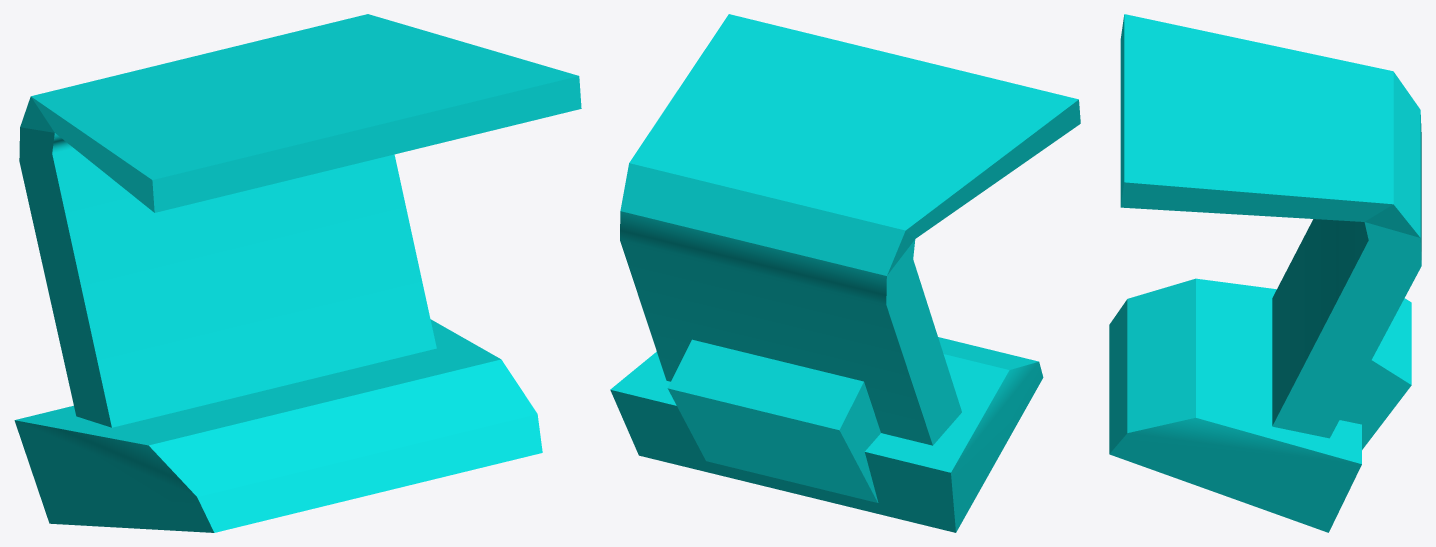
The model's file is SM_Veh_Cart_01_Collision.fbx.
The picture shows the model from 3 angles, left to right: view 1: azimuth 30°, elevation 25°; view 2: azimuth 150°, elevation 25°; view 3: azimuth 270°, elevation 25°; orthographic projection. The views are drawn at different scales.
Parts seen in each view (by area): view 1: SM_Veh_Cart_01_Collision; view 2: SM_Veh_Cart_01_Collision; view 3: SM_Veh_Cart_01_Collision.
Boxes of the visible parts, x1=… form: SM_Veh_Cart_01_Collision: x1=14, y1=14, x2=581, y2=532; SM_Veh_Cart_01_Collision: x1=610, y1=14, x2=1080, y2=532; SM_Veh_Cart_01_Collision: x1=1109, y1=14, x2=1421, y2=532.
Size of the model in its own units: 213 by 210 by 167.
